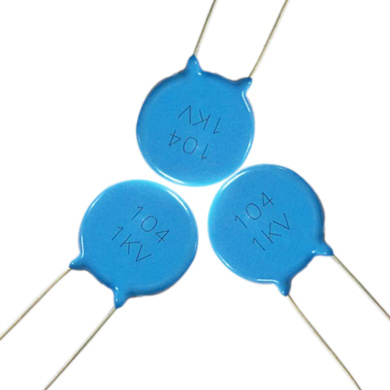capacitor: (113, 35, 282, 188), (202, 145, 351, 311), (57, 167, 202, 334)
